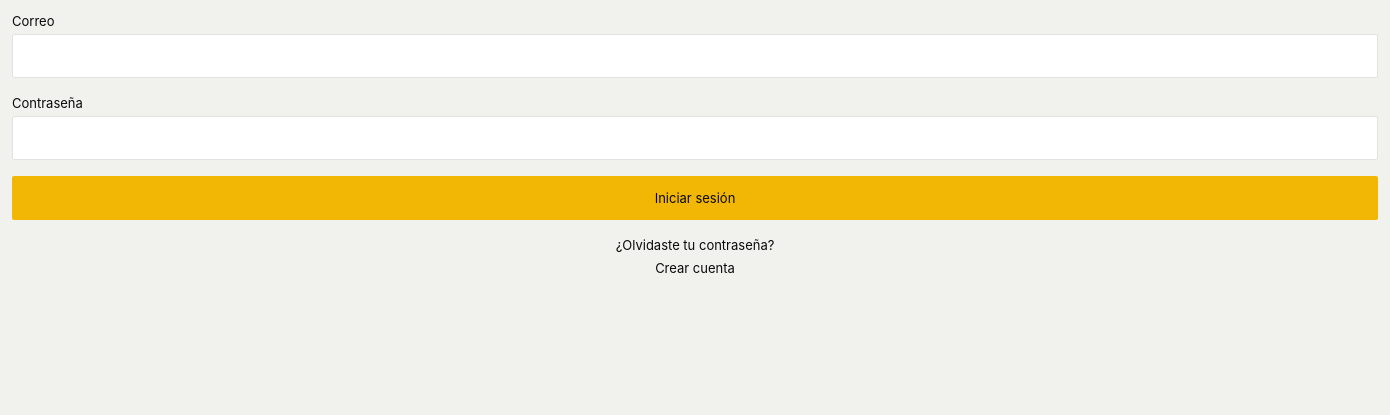
CustomerLoginForm › shows a 'Reenviar correo' button on a 403 for an unverified account, and resends on click
The image size is (1390, 415).
Type "cliente@example.com" into the field labelled "Correo" at (695, 56), box x1=12 y1=34 x2=1378 y2=78
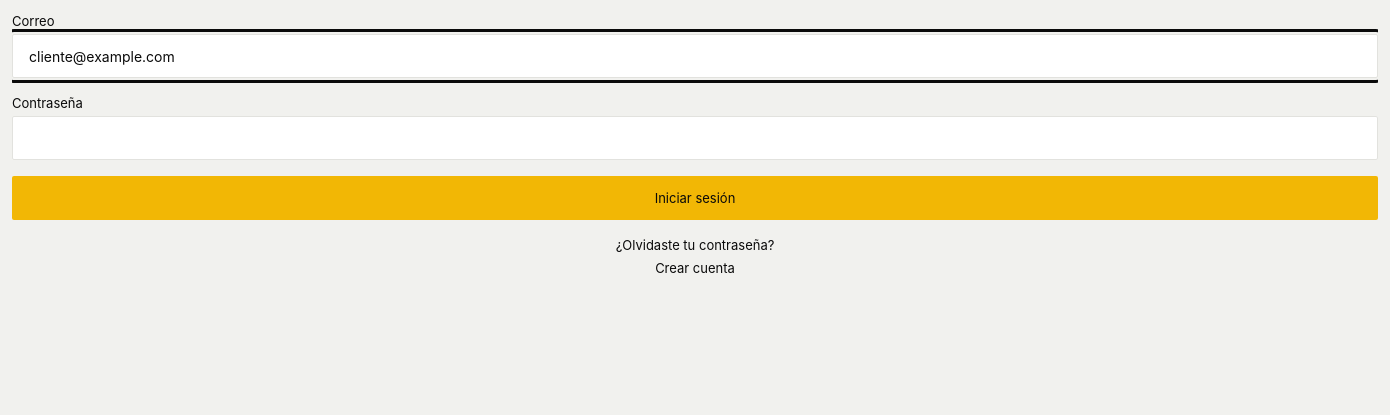
Type "supersecreta" into the password field labelled "Contraseña" at (695, 138), box x1=12 y1=116 x2=1378 y2=160
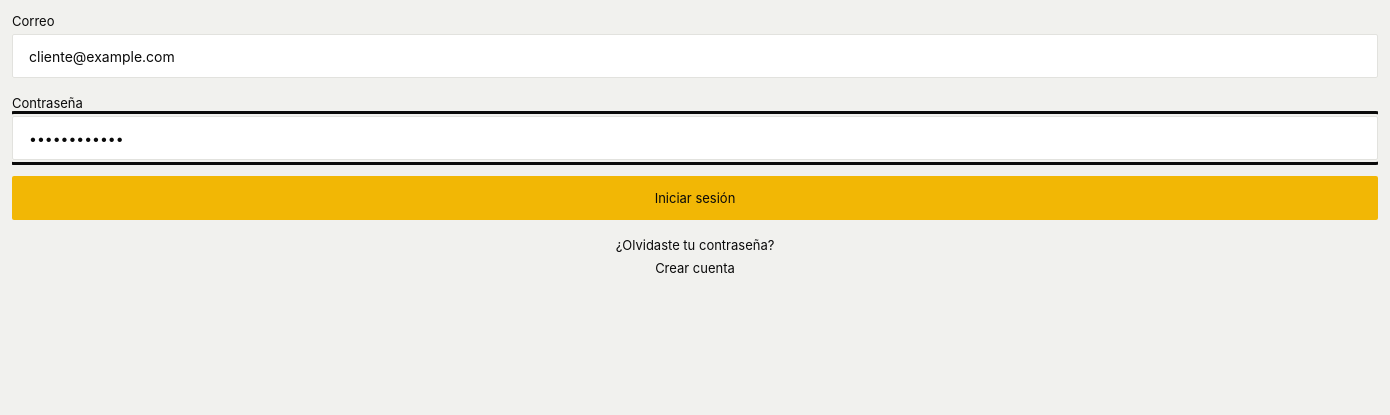
Click the button named "Iniciar sesión" at (695, 198), box x1=12 y1=176 x2=1378 y2=220
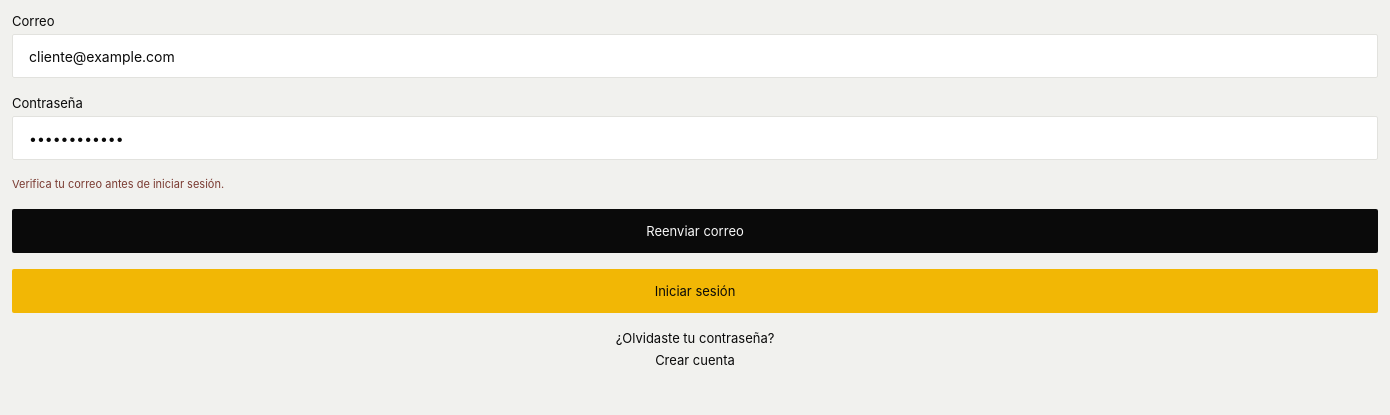
Click the 1st button named "Reenviar correo" at (695, 231), box x1=12 y1=209 x2=1378 y2=253
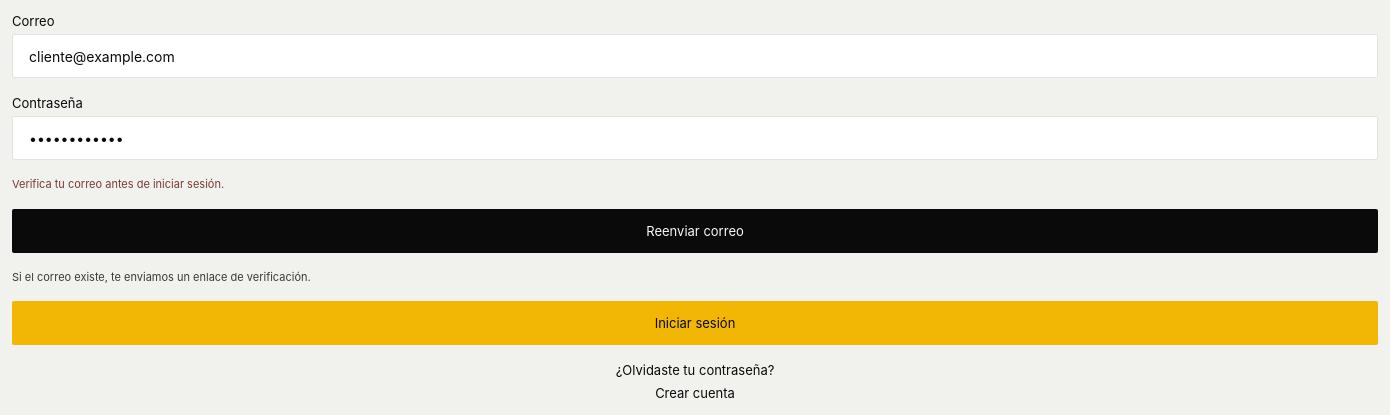
expect the text "Si el correo existe, te enviamos un enlace de verificación." is shown: met, box x1=12 y1=270 x2=311 y2=284
